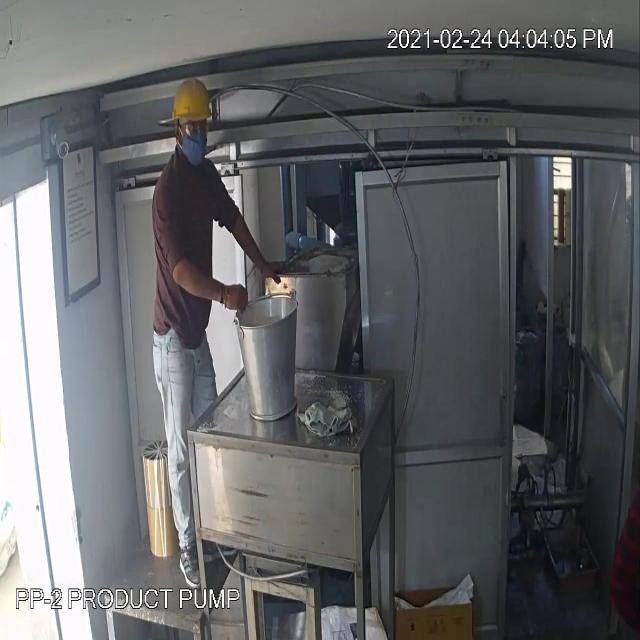helmet: (169, 64, 215, 138)
